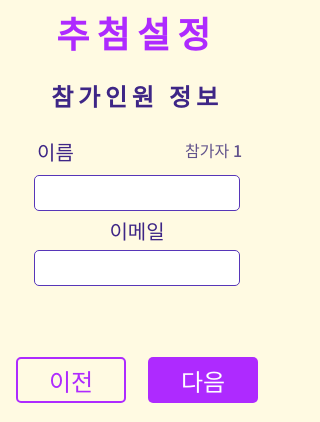
it: 경품추첨 모드에서 참가자 이메일을 잘못 입력했을 때, 올바른 에러메시지 출력하기
The width and height of the screenshot is (320, 422).
Type "John Doe" into the field labelled "이름" at {"x": 137, "y": 193}, box [34,175,240,211]
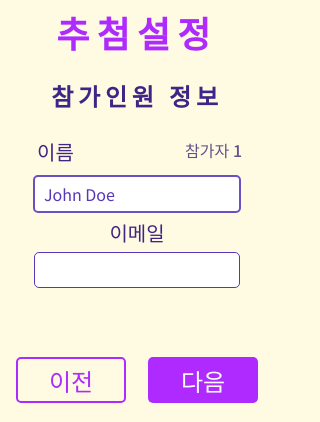
Type "john!doe.com" into the field labelled "이메일" at {"x": 137, "y": 270}, box [34,252,240,288]
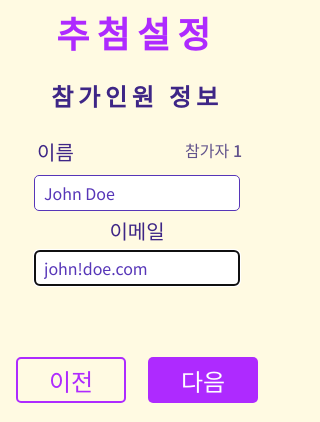
Click the button "다음" at {"x": 203, "y": 380}, box [148,357,258,403]
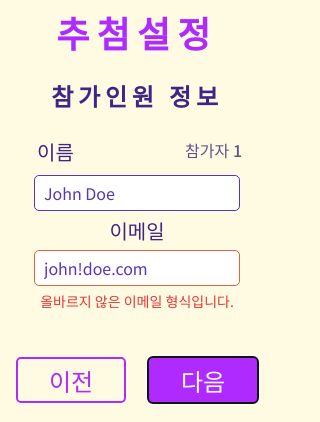
Result: the text "올바르지 않은 이메일 형식입니다." is shown at [32,291,242,311]
